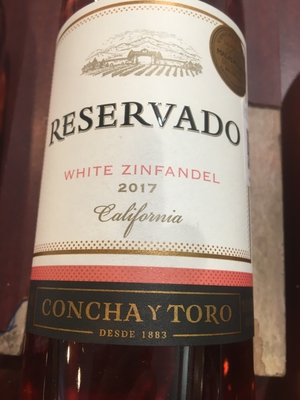reservado white zinfandel: (37, 3, 255, 395)
